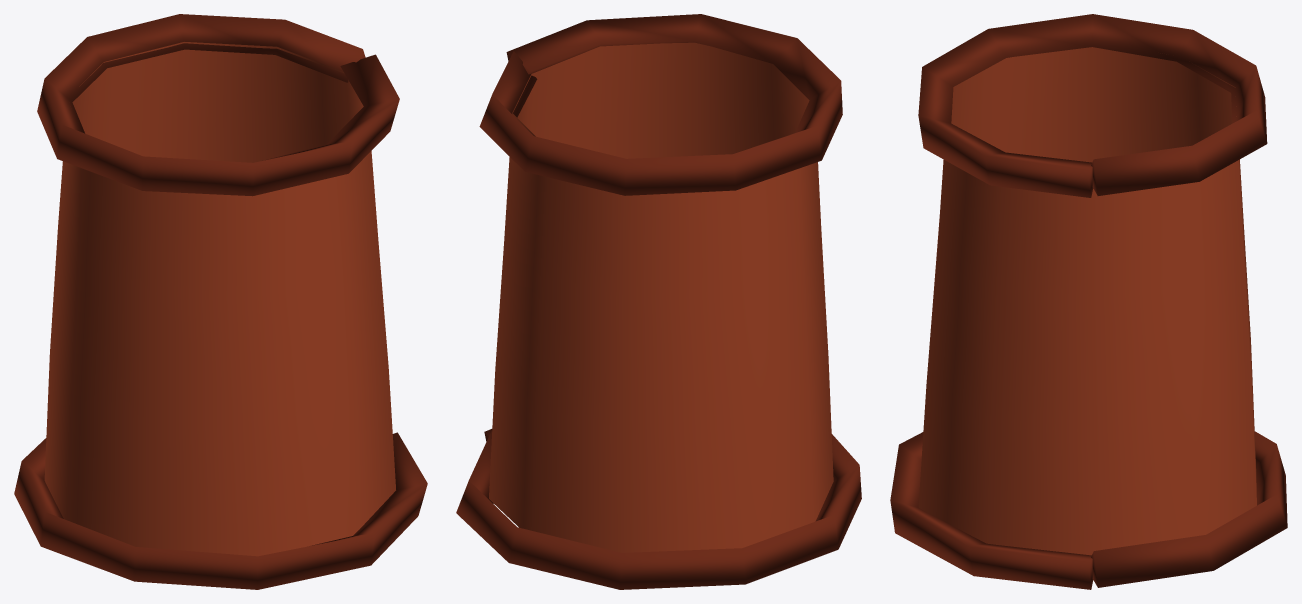
The model's file is meteor_armor_bracer.R.glb.
3 views of the same model, side by side, from view 1: azimuth 30°, elevation 25°; view 2: azimuth 150°, elevation 25°; view 3: azimuth 270°, elevation 25° (orthographic).
Visible parts, largest first — view 1: meteor_armor_bracer.R; view 2: meteor_armor_bracer.R; view 3: meteor_armor_bracer.R.
Part boxes in pixels (<box>): meteor_armor_bracer.R: <box>14,14,427,589</box>; meteor_armor_bracer.R: <box>456,14,861,589</box>; meteor_armor_bracer.R: <box>890,14,1287,589</box>.
Bounding box in the file's own units: 0.1516 × 0.1719 × 0.1476.
